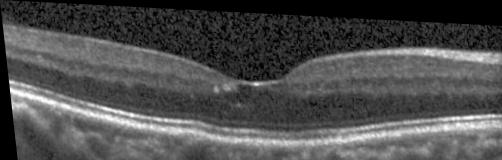intraretinal_cyst: (222, 90, 241, 101), (235, 82, 249, 95)
